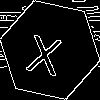X: (25, 25, 66, 77)
